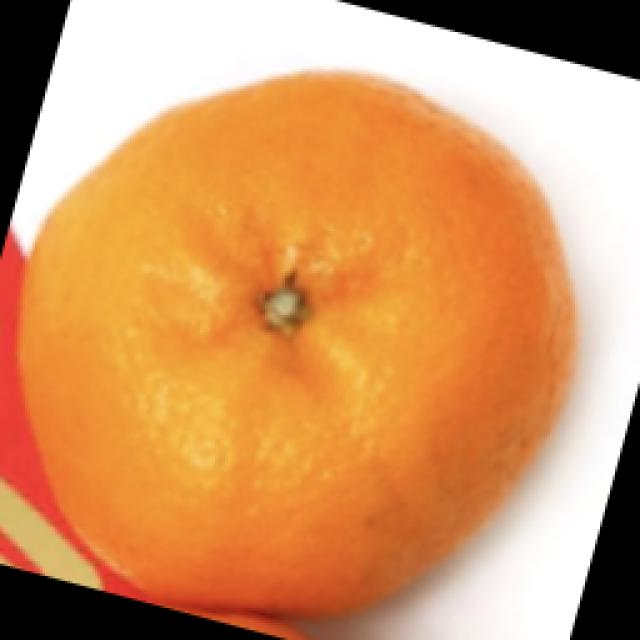fresh: (12, 68, 590, 623)
